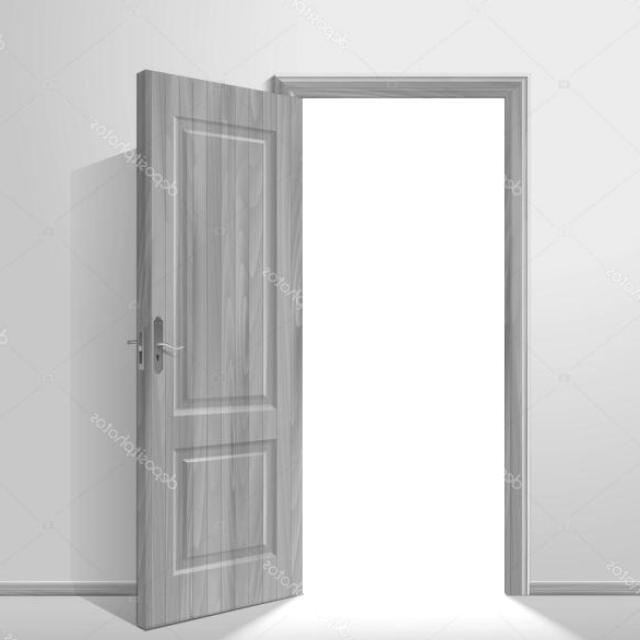door: (133, 68, 303, 629)
